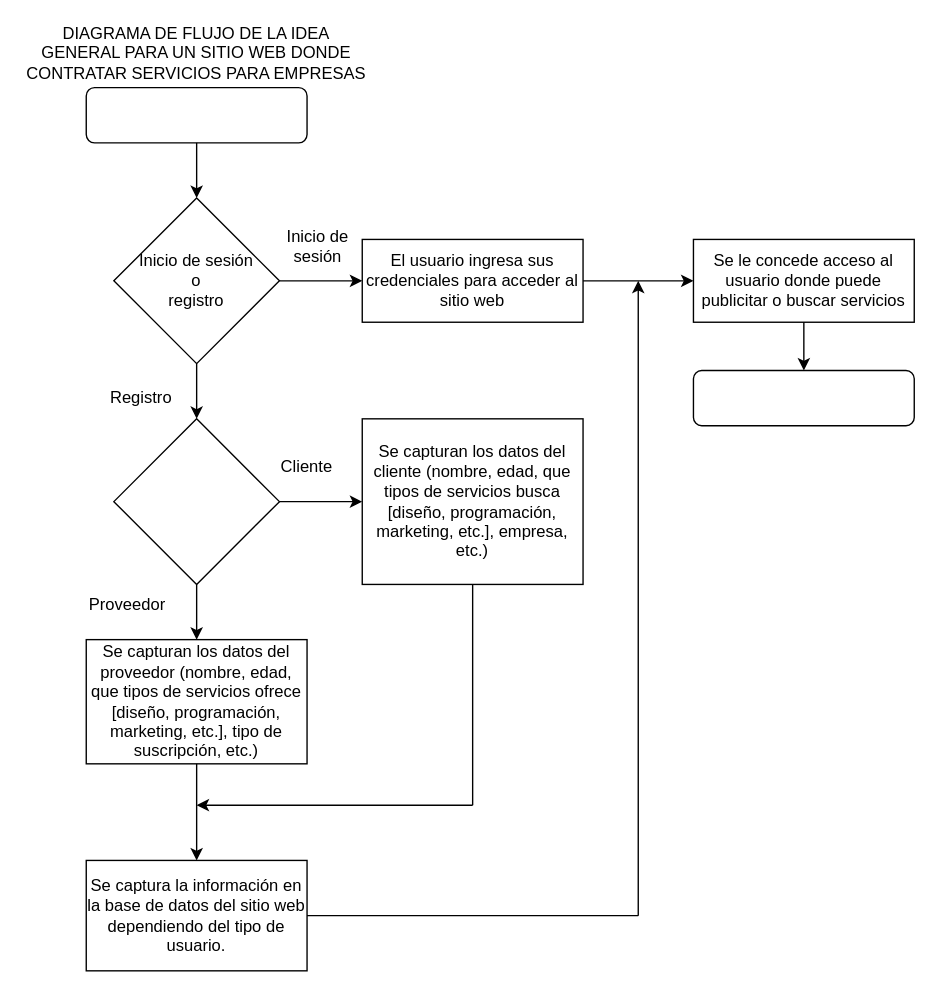
Some shapes in this 938 by 995 pixel diagram are drawn without their labels. Here are the shapes that lost their labels. From the top down, the centre of each, then its label:
At point 196,114: "INICIO".
At point 803,397: "FIN".
At point 195,500: "Cliente o proveedor".
